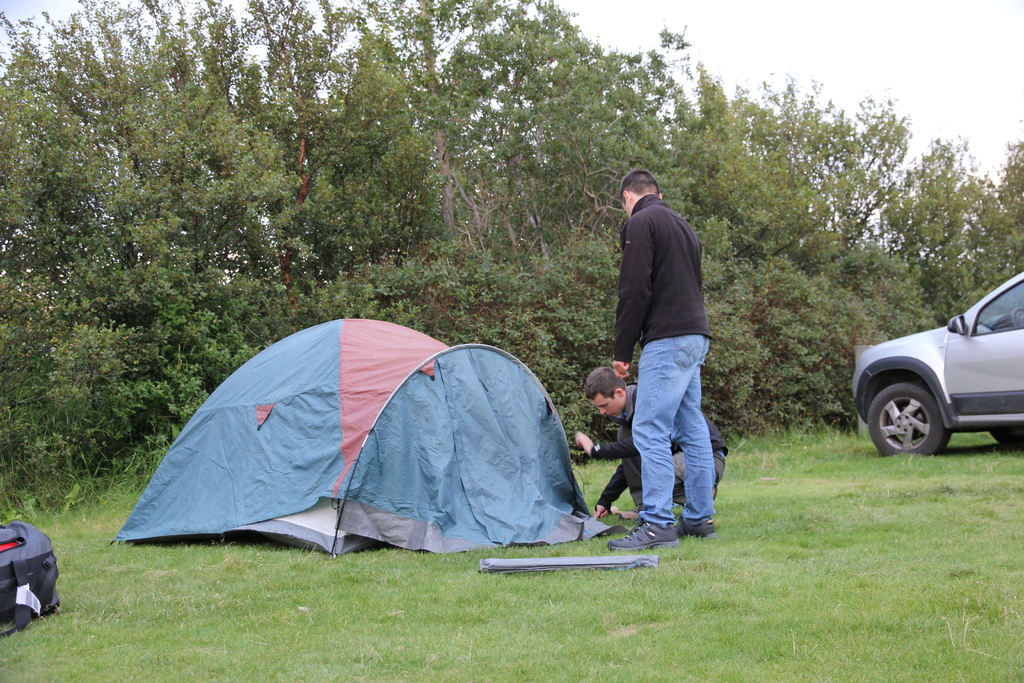Car: (851, 269, 1023, 454)
